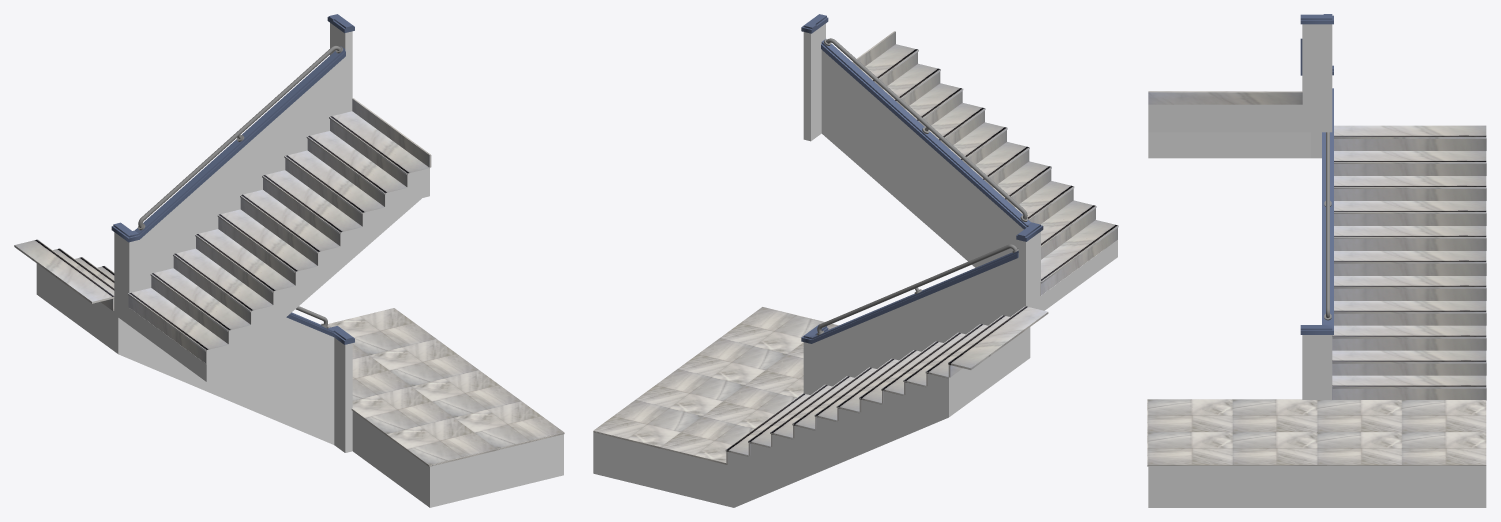
File: StairsP1.dae
3 views of the same model, side by side, from view 1: azimuth 30°, elevation 25°; view 2: azimuth 150°, elevation 25°; view 3: azimuth 270°, elevation 25° (orthographic).
Parts seen in each view (by area): view 1: StairsP1-Pivot; view 2: StairsP1-Pivot; view 3: StairsP1-Pivot.
Part boxes in pixels (x1=…): StairsP1-Pivot: x1=14, y1=14, x2=564, y2=507; StairsP1-Pivot: x1=593, y1=14, x2=1118, y2=507; StairsP1-Pivot: x1=1147, y1=14, x2=1486, y2=507.
Size of the model in its own units: 510 by 396 by 547.
Materials: 4 (4 with a texture image).
